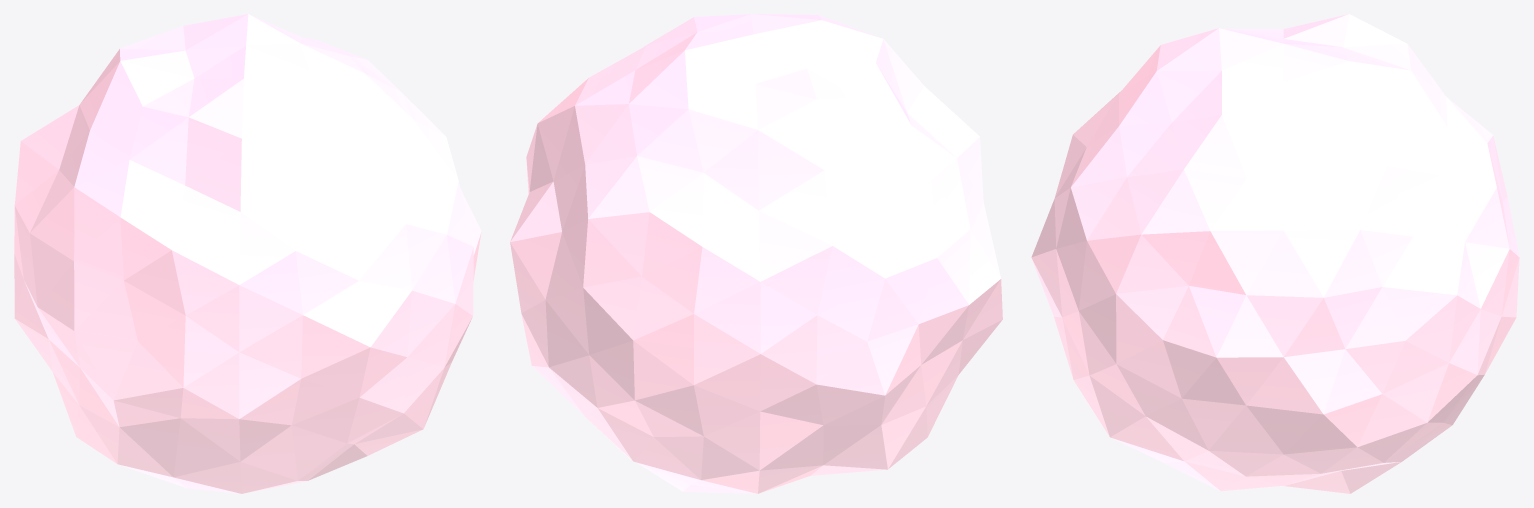
File: andresa.glb
3 renders of one model, left to right at view 1: azimuth 30°, elevation 25°; view 2: azimuth 150°, elevation 25°; view 3: azimuth 270°, elevation 25°, orthographic. The views are drawn at different scales.
Visible parts, largest first — view 1: outer_andresa; view 2: outer_andresa; view 3: outer_andresa.
Boxes of the visible parts, left/top/right/bottom form: outer_andresa: left=14, top=14, right=481, bottom=493; outer_andresa: left=510, top=14, right=1002, bottom=493; outer_andresa: left=1031, top=14, right=1519, bottom=493.
Size of the model in its own units: 5.1 by 5.09 by 5.17.
